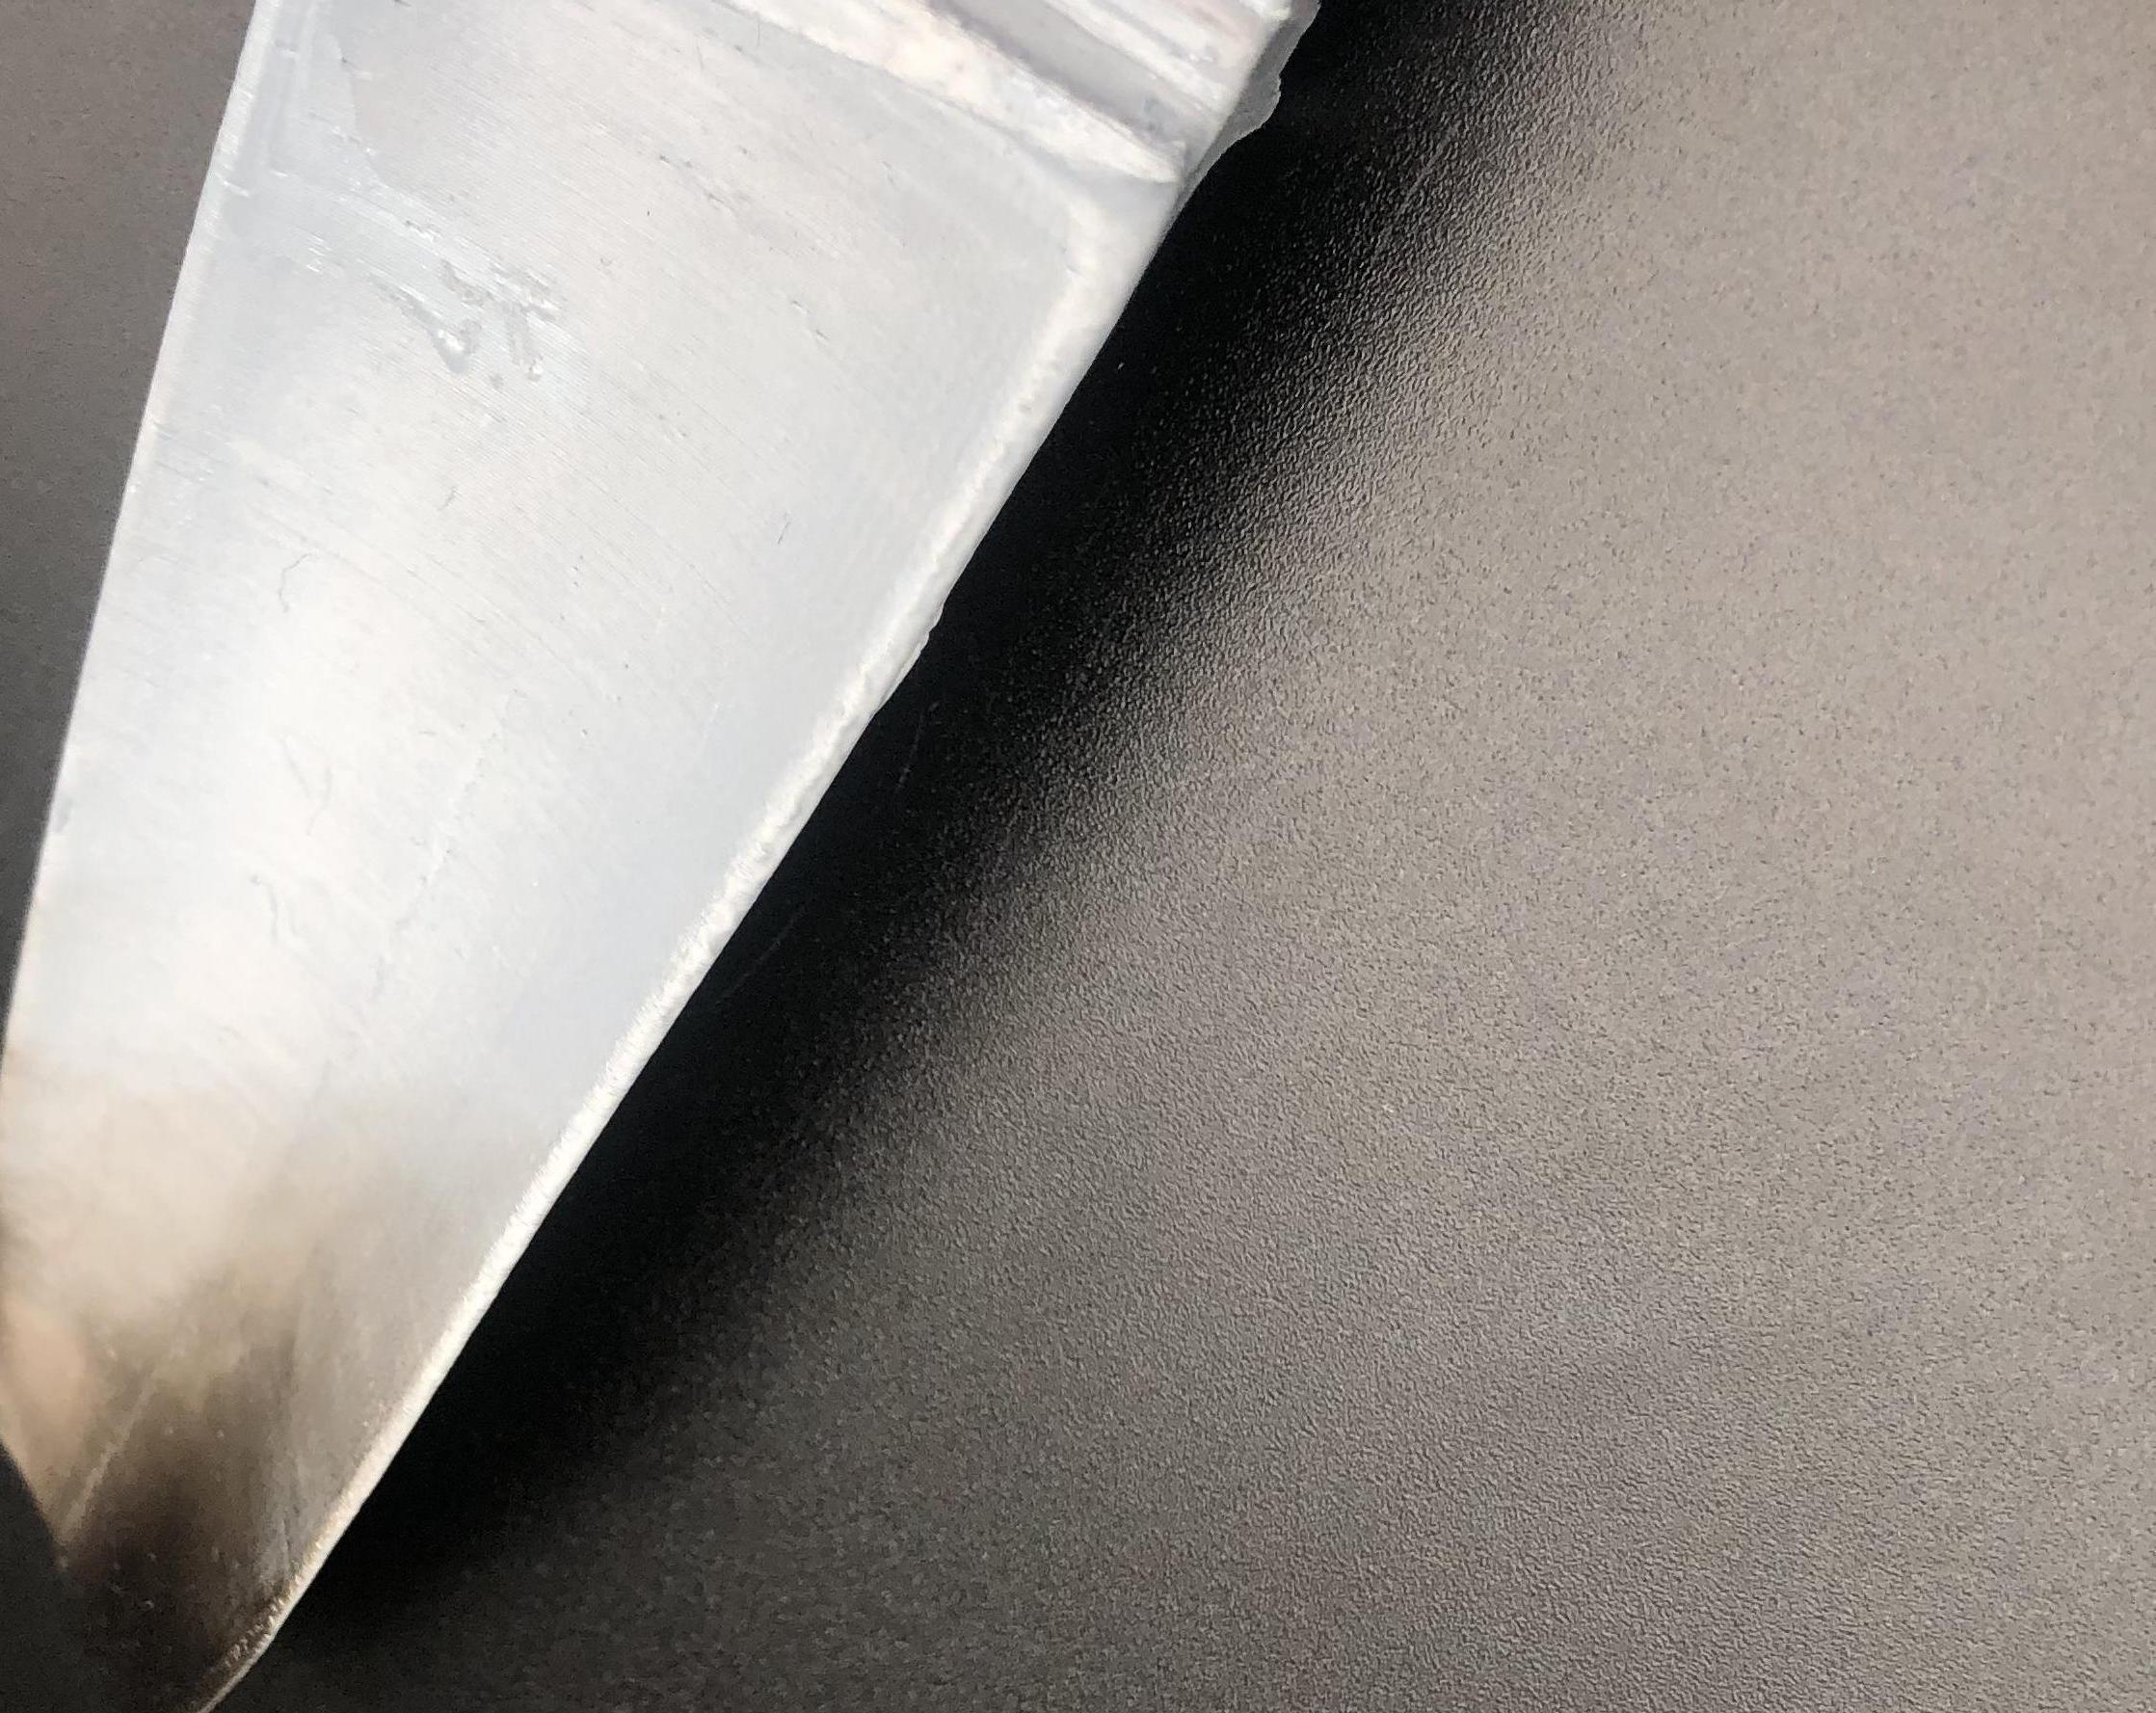ablation: (33, 1237, 252, 1682)
